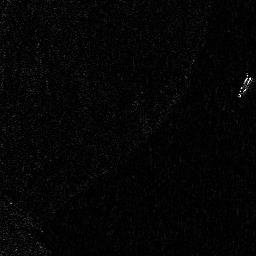ship: (237, 75, 253, 99)
